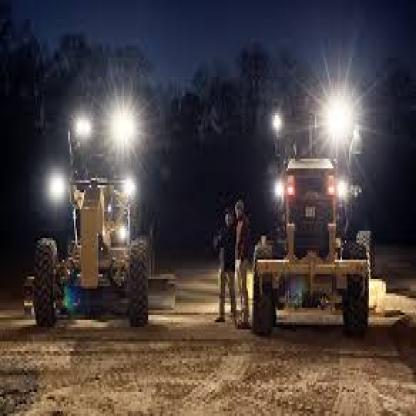bull_dozer/loader/grader: (23, 96, 188, 354), (242, 70, 390, 348)
